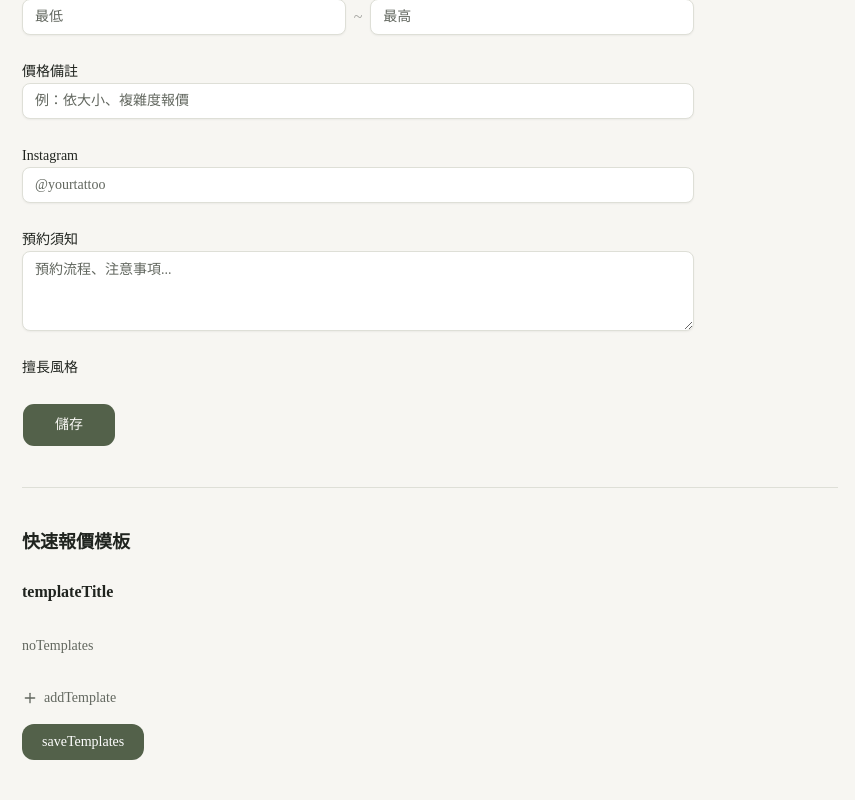
Test: ProfilePage › propagates a non-ok PUT response as a thrown error for the child to display
(page scrolled)
Step 1. Click the button "addTemplate" → (69, 698), box [22,688,116,708]
(page scrolled)
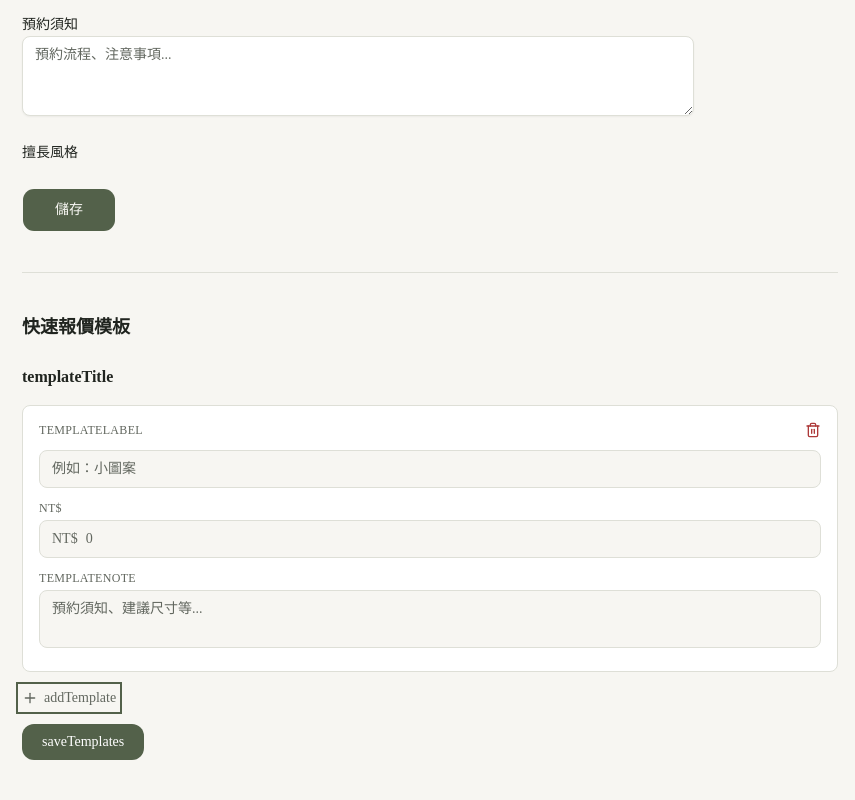
Step 2. Click the button "saveTemplates" → (83, 742), box [22,724,144,760]
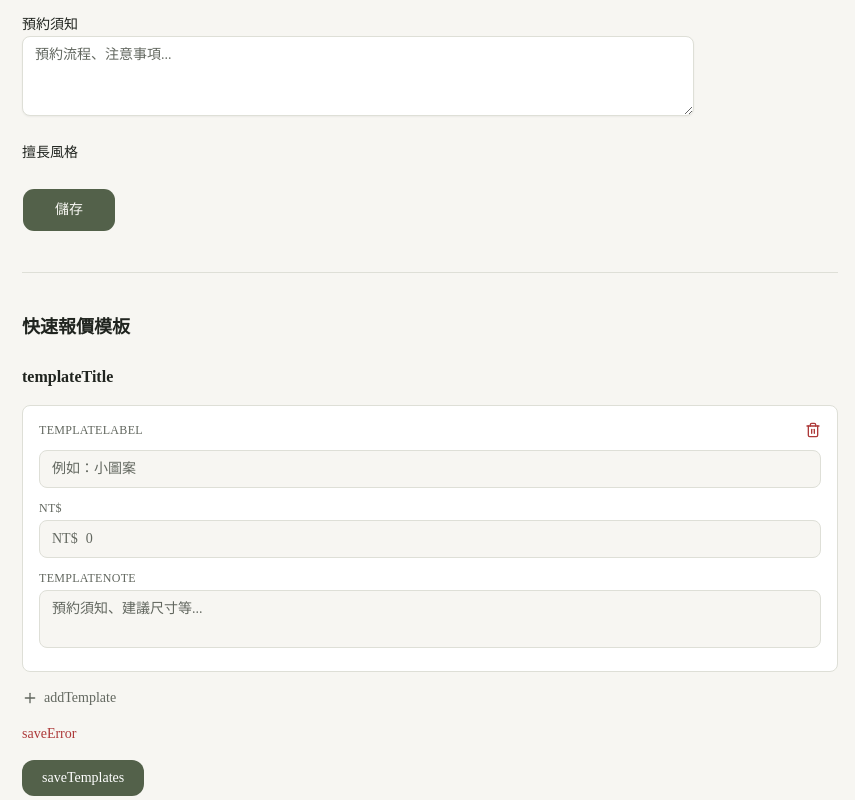
Expected: the text "saveError" is shown, [22,726,76,741]
